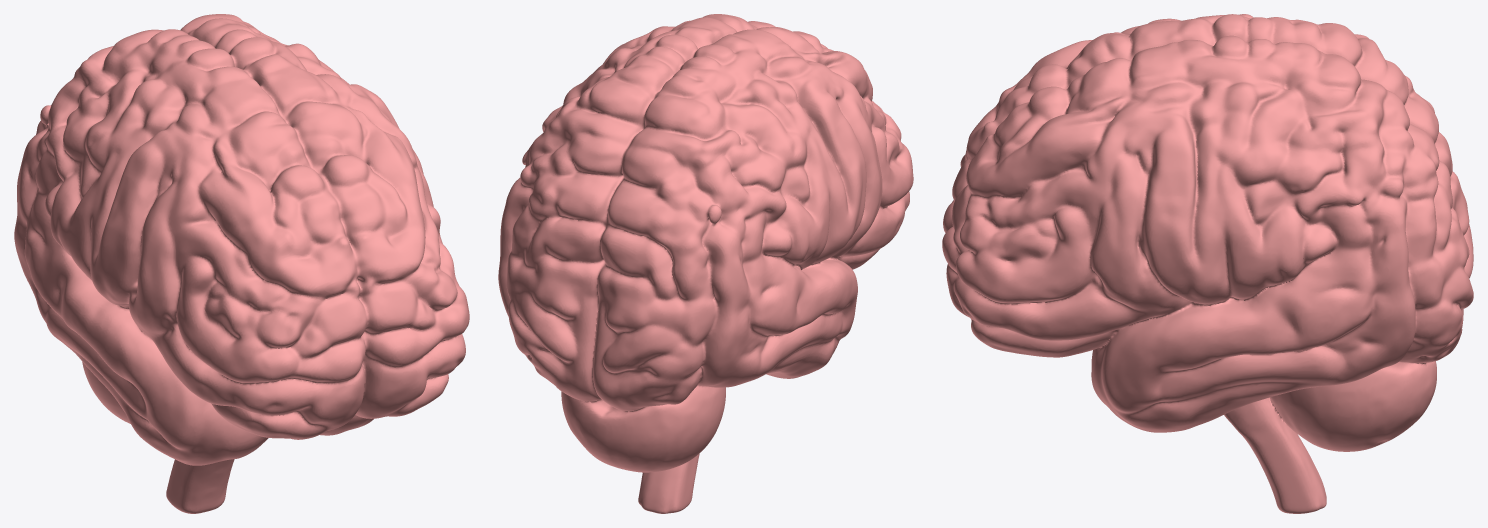
The model's file is brain.glb.
The picture shows the model from 3 angles, left to right: view 1: azimuth 30°, elevation 25°; view 2: azimuth 150°, elevation 25°; view 3: azimuth 270°, elevation 25°; orthographic projection. The views are drawn at different scales.
Parts seen in each view (by area): view 1: Object_5, Object_3, Object_2, Object_4, Object_6; view 2: Object_5, Object_4, Object_6, Object_2, Object_3; view 3: Object_3, Object_2, Object_4, Object_5, Object_6.
Boxes of the visible parts, x1,y1,x2,y2 form: Object_5: (14, 34, 364, 490); Object_3: (14, 42, 469, 510); Object_2: (14, 70, 465, 513); Object_4: (17, 14, 456, 434); Object_6: (22, 30, 366, 513); Object_5: (502, 27, 912, 513); Object_4: (498, 34, 873, 447); Object_6: (545, 27, 913, 512); Object_2: (529, 14, 913, 513); Object_3: (527, 14, 912, 503); Object_3: (942, 23, 1467, 511); Object_2: (942, 72, 1462, 513); Object_4: (952, 14, 1473, 432); Object_5: (948, 14, 1473, 509); Object_6: (946, 14, 1469, 512).
Size of the model in its own units: 0.6304 by 0.9438 by 0.9506.
